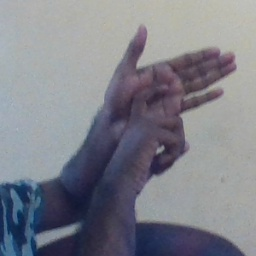R: (96, 21, 240, 170)
